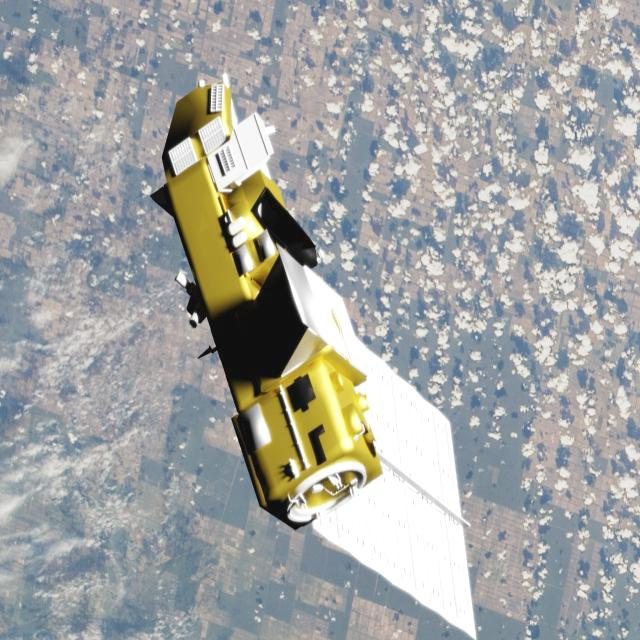satellite: (146, 69, 481, 640)
